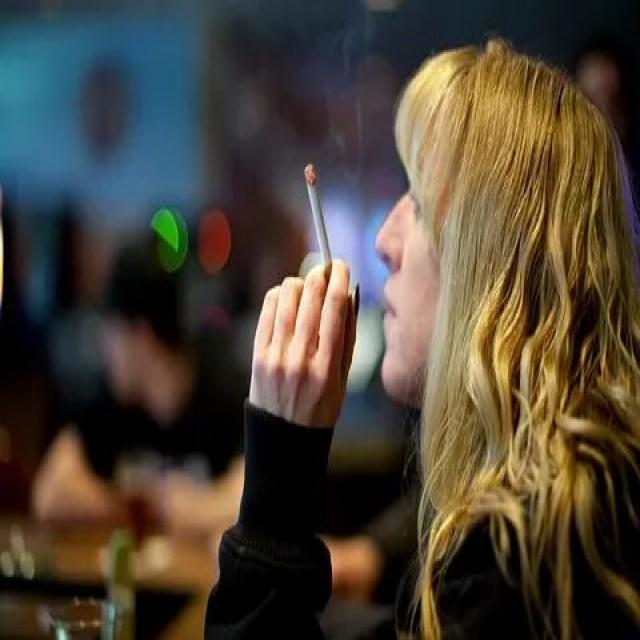smoke: (300, 158, 339, 275)
